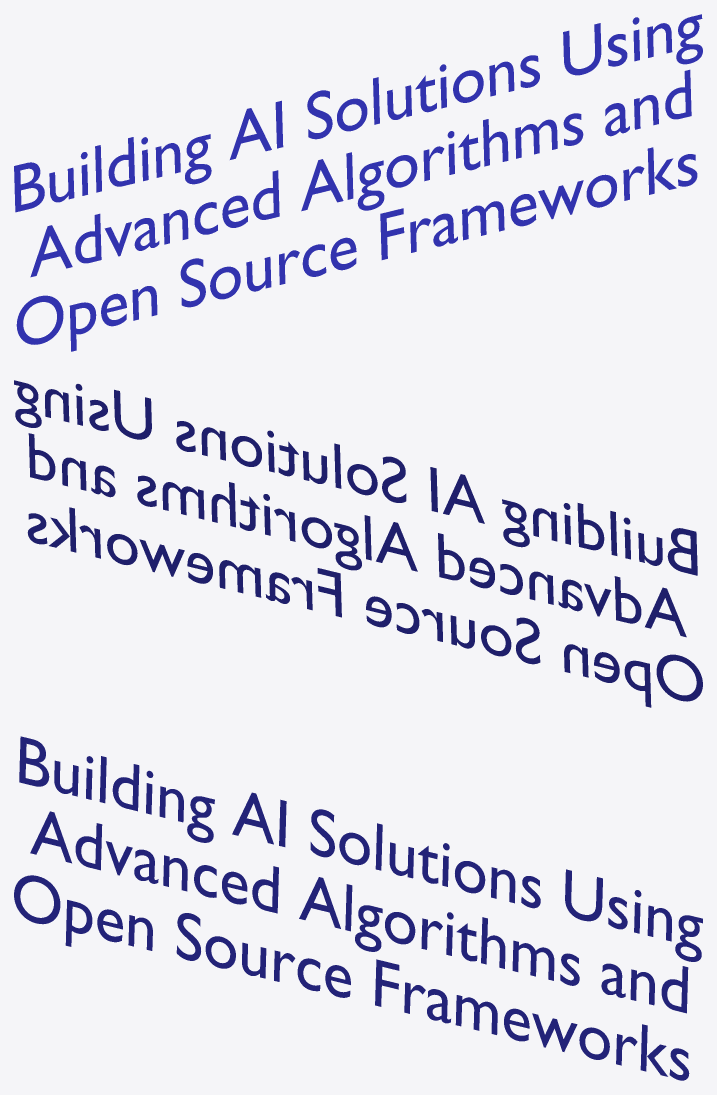
File: BuildingAISolutionsUsingAdvancedAlgos.glb
The picture shows the model from 3 angles, top to bottom: view 1: azimuth 30°, elevation 25°; view 2: azimuth 150°, elevation 25°; view 3: azimuth 330°, elevation 25°; orthographic projection.
Visible parts, largest first — view 1: Text; view 2: Text; view 3: Text.
Boxes of the visible parts, <box> form: Text: <box>14,14,702,351</box>; Text: <box>14,380,702,707</box>; Text: <box>14,736,702,1080</box>.
Bounding box in the file's own units: 10.81 × 2.92 × 0.1588.
